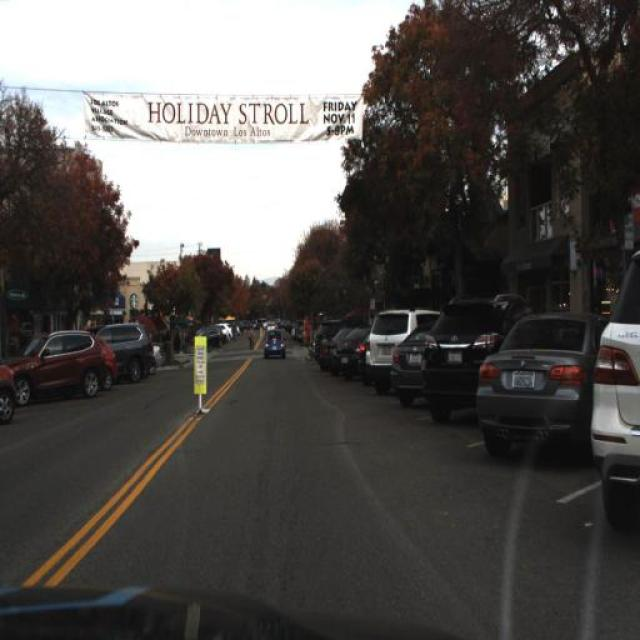car: (474, 304, 594, 461), (589, 243, 639, 538), (421, 288, 502, 424), (5, 326, 106, 406), (94, 316, 154, 383), (366, 301, 410, 387), (390, 324, 424, 414), (96, 328, 120, 396), (259, 324, 289, 360), (354, 328, 368, 388)
